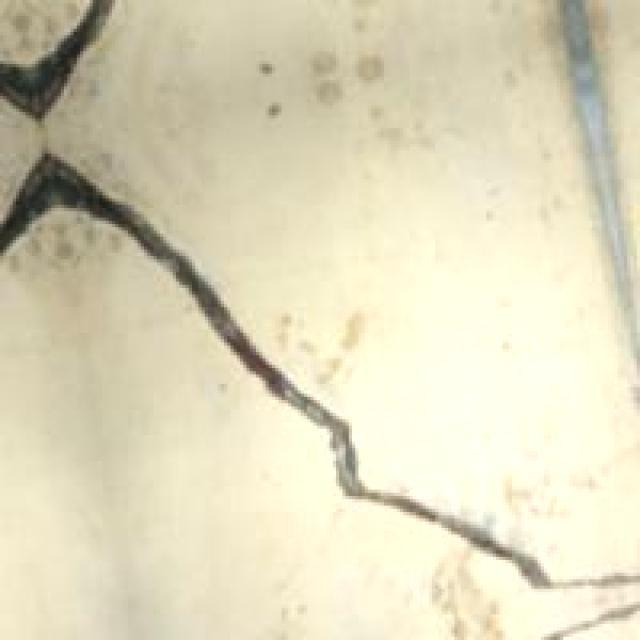SurfaceCrack: (0, 154, 624, 622)
